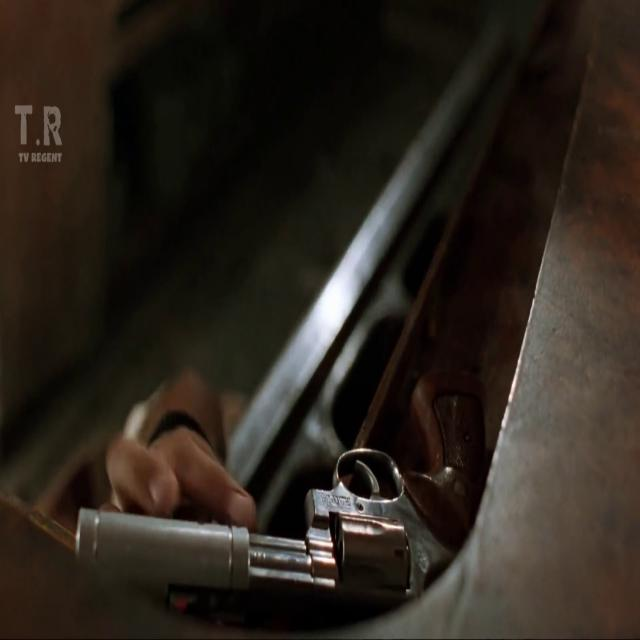handgun: (57, 363, 512, 619)
